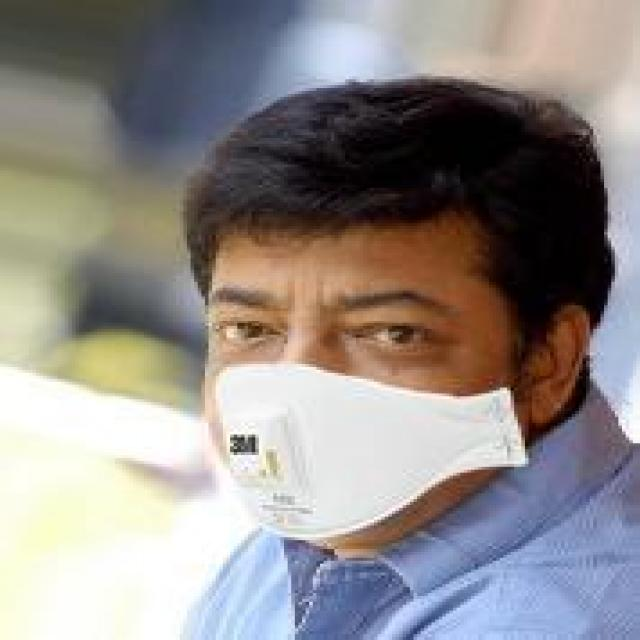mask: (187, 44, 604, 540)
